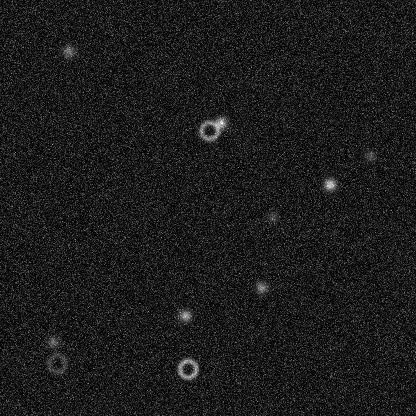Ring: (175, 356, 199, 380), (45, 351, 69, 375), (197, 118, 221, 142)
Spot: (45, 333, 61, 349), (264, 208, 280, 224), (361, 147, 377, 163), (176, 307, 192, 323), (321, 176, 337, 192), (60, 43, 76, 59), (212, 114, 228, 130), (253, 279, 269, 295)
